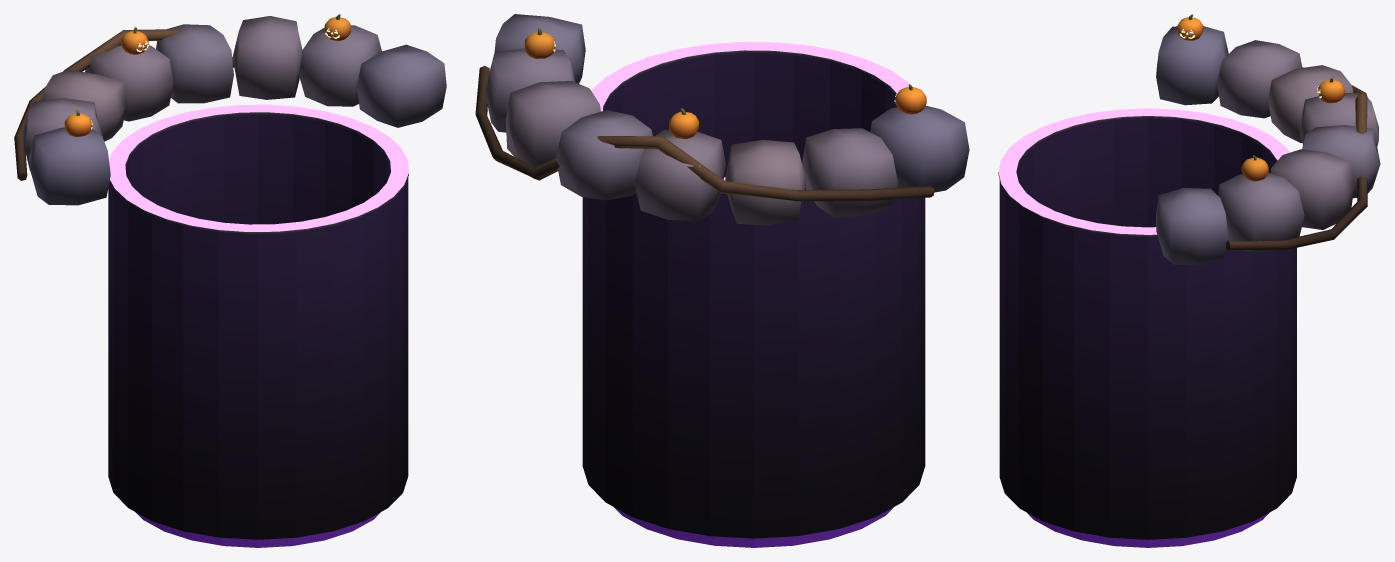
The model's file is BallValley_Kit_Hole_Side.fbx.
The picture shows the model from 3 angles, left to right: view 1: azimuth 30°, elevation 25°; view 2: azimuth 150°, elevation 25°; view 3: azimuth 270°, elevation 25°; orthographic projection. The views are drawn at different scales.
Parts seen in each view (by area): view 1: BallValley_Kit_Hole_Side; view 2: BallValley_Kit_Hole_Side; view 3: BallValley_Kit_Hole_Side.
Boxes of the visible parts, x1=… form: BallValley_Kit_Hole_Side: x1=14, y1=14, x2=446, y2=547; BallValley_Kit_Hole_Side: x1=475, y1=14, x2=969, y2=547; BallValley_Kit_Hole_Side: x1=998, y1=14, x2=1380, y2=547.
Bounding box in the file's own units: 8.21 × 7.93 × 6.83.
